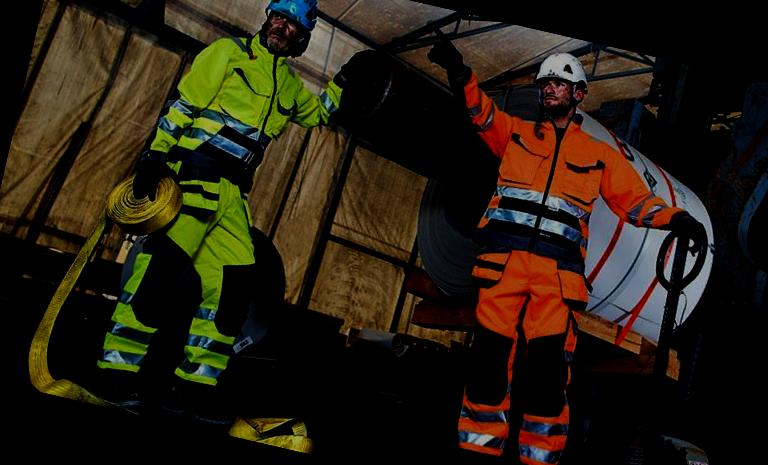helmet: (524, 42, 596, 92), (253, 0, 330, 35)
person: (372, 29, 699, 465), (81, 0, 368, 430)
